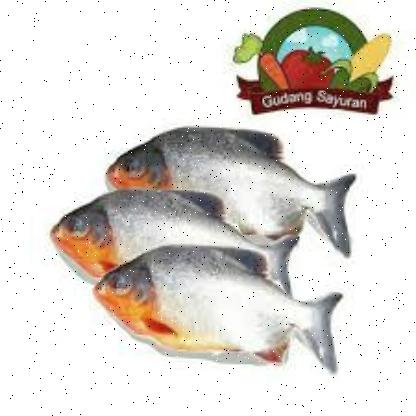ikan-pacu: (92, 247, 342, 361), (107, 128, 351, 232), (48, 191, 240, 272)
